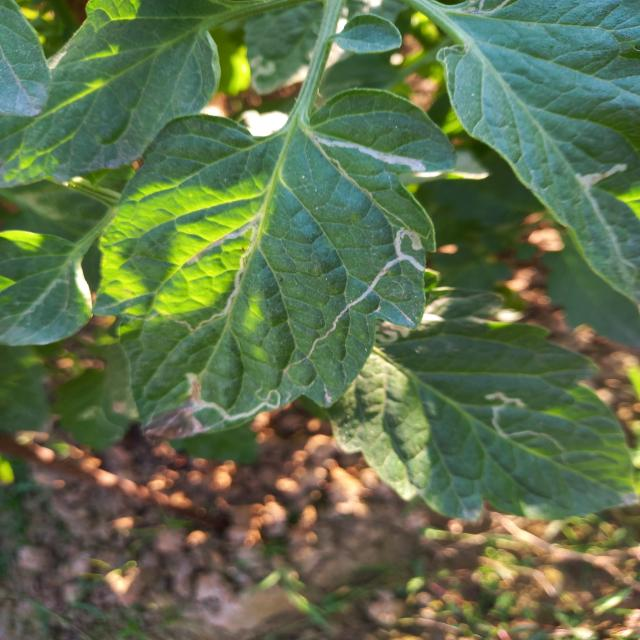Tuta absoluta: (332, 224, 438, 348), (481, 397, 568, 472), (179, 372, 282, 433), (310, 130, 427, 173), (576, 162, 639, 228), (486, 390, 521, 407), (308, 329, 332, 353)
